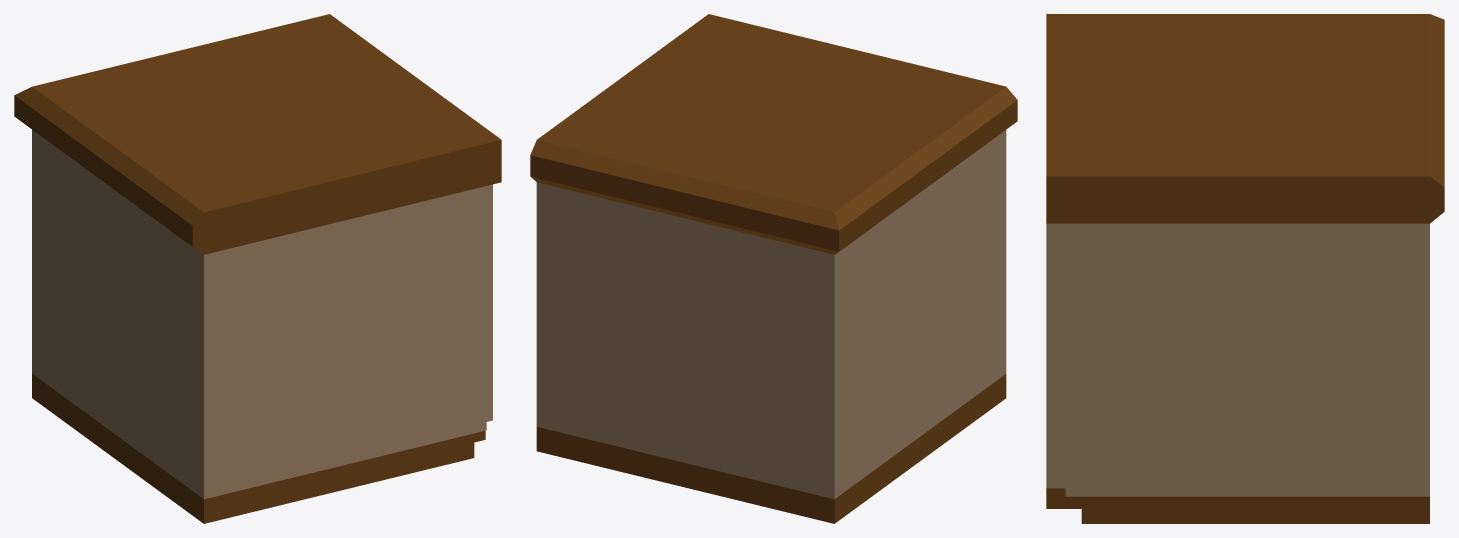
File: SM_Bench_Corner_Inner.fbx
The picture shows the model from 3 angles, left to right: view 1: azimuth 30°, elevation 25°; view 2: azimuth 150°, elevation 25°; view 3: azimuth 270°, elevation 25°; orthographic projection. The views are drawn at different scales.
Parts seen in each view (by area): view 1: SM_Bench_Corner_Inner; view 2: SM_Bench_Corner_Inner; view 3: SM_Bench_Corner_Inner.
Boxes of the visible parts, x1,y1,x2,y2 form: SM_Bench_Corner_Inner: [14, 14, 501, 523]; SM_Bench_Corner_Inner: [530, 14, 1017, 523]; SM_Bench_Corner_Inner: [1046, 14, 1444, 523].
Size of the model in its own units: 1.04 by 1 by 1.04.
